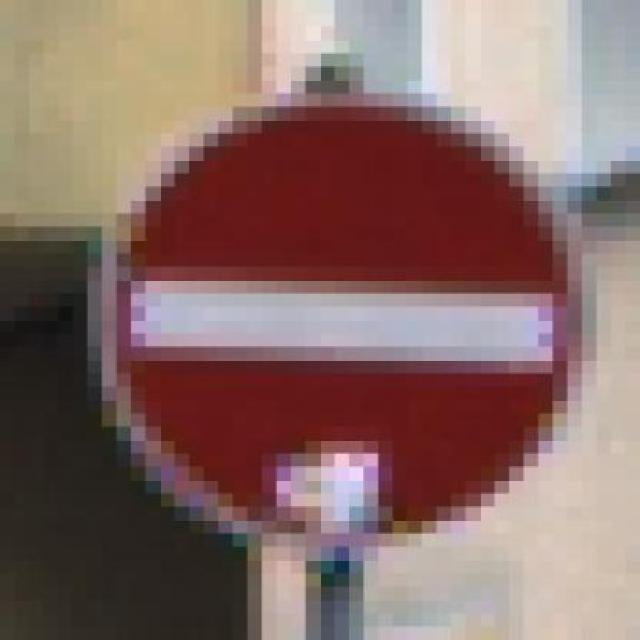No Entry: (58, 53, 596, 561)
